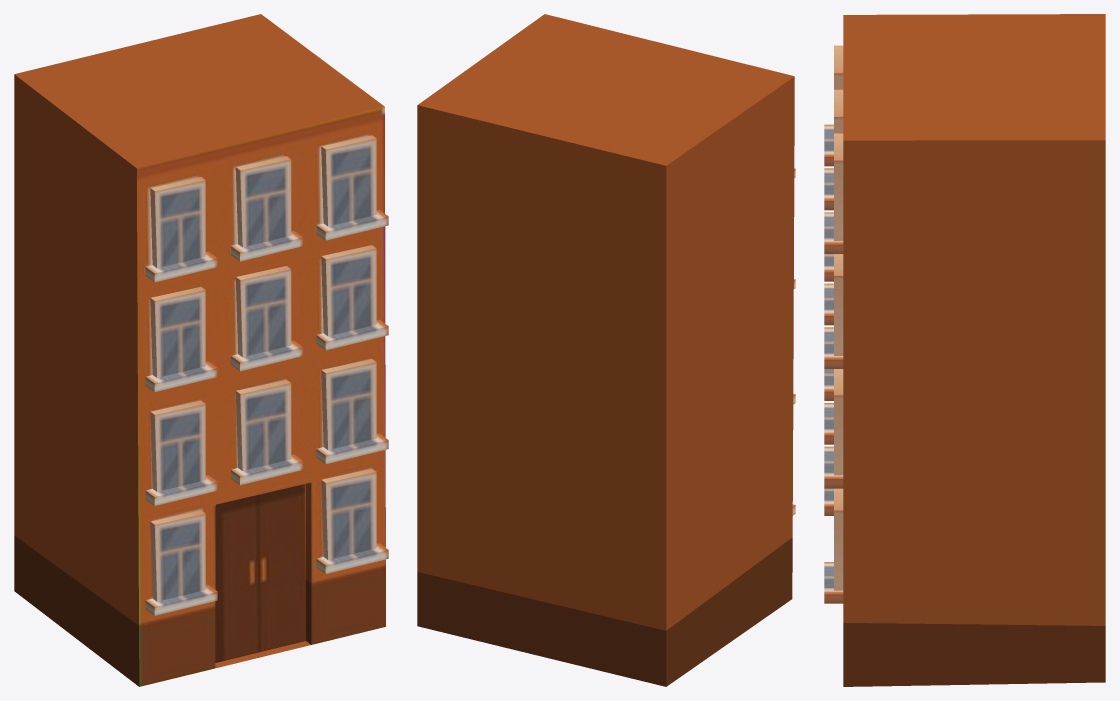
File: cartoon_building2.glb
3 views of the same model, side by side, from view 1: azimuth 30°, elevation 25°; view 2: azimuth 150°, elevation 25°; view 3: azimuth 270°, elevation 25° (orthographic). The views are drawn at different scales.
Visible parts, largest first — view 1: Object_2, Object_6, Object_5, Object_4; view 2: Object_6, Object_4; view 3: Object_6, Object_4, Object_2, Object_5.
Part boxes in pixels (x1,y1,x2,y2): Object_2: [137, 106, 385, 686]; Object_6: [14, 14, 384, 668]; Object_5: [145, 210, 388, 615]; Object_4: [14, 536, 139, 686]; Object_6: [417, 14, 794, 630]; Object_4: [417, 537, 792, 686]; Object_6: [843, 14, 1105, 625]; Object_4: [843, 623, 1105, 686]; Object_2: [834, 45, 843, 590]; Object_5: [824, 124, 843, 603].
Bounding box in the file's own units: 9.37 × 18.73 × 8.75.
Materials: 4 (2 with a texture image).
